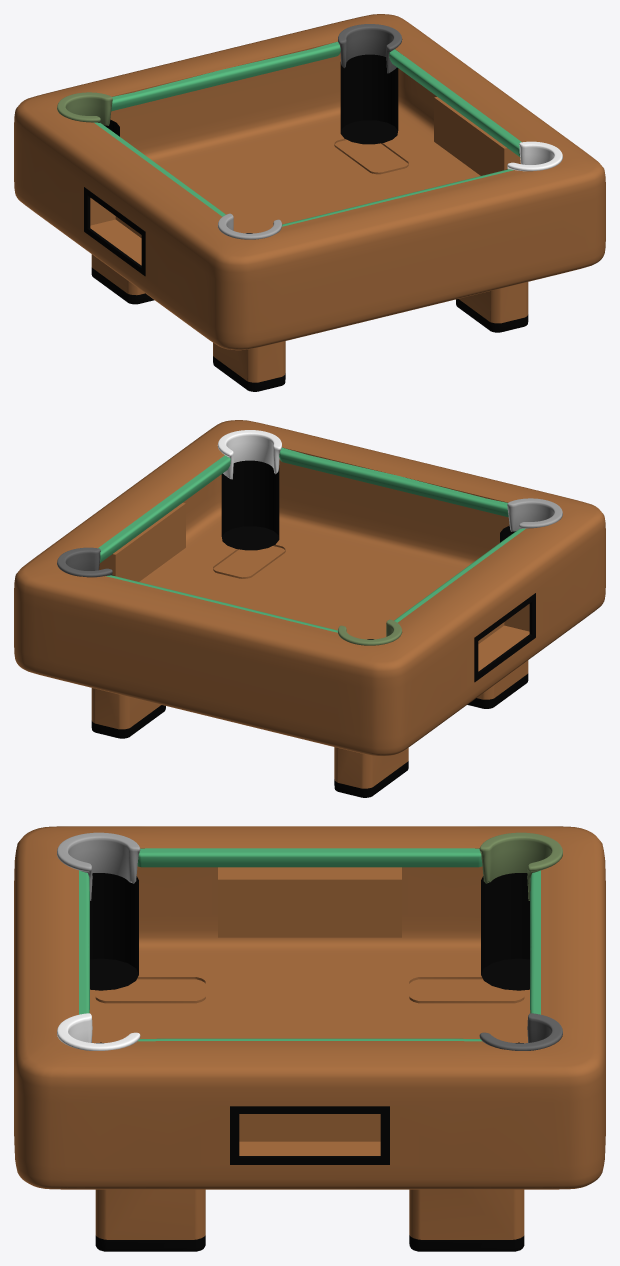
Rendered from PoolTable.fbx.
The picture shows the model from 3 angles, top to bottom: view 1: azimuth 30°, elevation 25°; view 2: azimuth 150°, elevation 25°; view 3: azimuth 270°, elevation 25°; orthographic projection. The views are drawn at different scales.
Parts seen in each view (by area): view 1: PoolTable; view 2: PoolTable; view 3: PoolTable.
Boxes of the visible parts, x1,y1,x2,y2 form: PoolTable: [14, 14, 605, 391]; PoolTable: [14, 420, 605, 797]; PoolTable: [14, 826, 605, 1251].
Size of the model in its own units: 114 by 47.47 by 114.
Materials: 5 (1 with a texture image).
